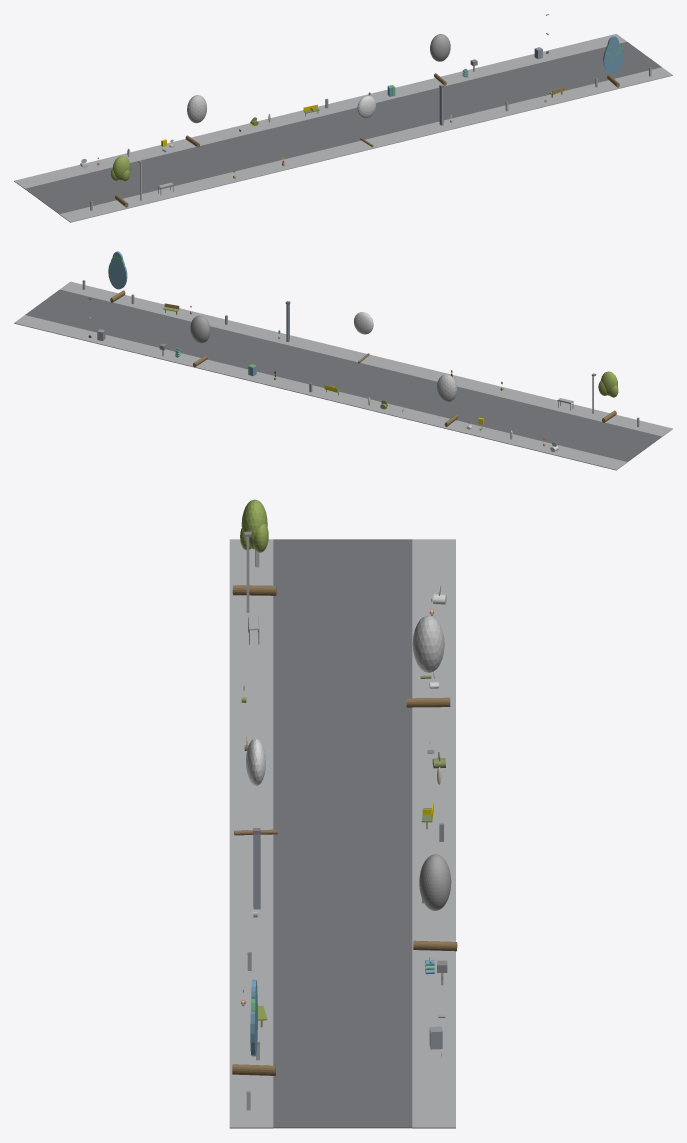
3 renders of one model, top to bottom at view 1: azimuth 30°, elevation 25°; view 2: azimuth 150°, elevation 25°; view 3: azimuth 270°, elevation 25°, orthographic. The views are drawn at different scales.
Visible parts, largest first — view 1: road_slab, sidewalk_left, sidewalk_right, inst_0016, inst_0013, inst_0015, inst_0012, inst_0014; view 2: road_slab, sidewalk_right, sidewalk_left, inst_0016, inst_0013, inst_0015, inst_0012, inst_0014; view 3: road_slab, sidewalk_left, sidewalk_right, inst_0013, inst_0015, inst_0012, inst_0016, inst_0014.
Boxes of the visible parts, left/top/right/bottom form: road_slab: left=25, top=42, right=661, bottom=214; sidewalk_left: left=59, top=67, right=672, bottom=222; sidewalk_right: left=14, top=34, right=626, bottom=188; inst_0016: left=603, top=36, right=623, bottom=87; inst_0013: left=185, top=95, right=206, bottom=147; inst_0015: left=430, top=34, right=450, bottom=85; inst_0012: left=111, top=156, right=130, bottom=207; inst_0014: left=357, top=96, right=375, bottom=147; road_slab: left=25, top=289, right=661, bottom=461; sidewalk_right: left=14, top=315, right=627, bottom=470; sidewalk_left: left=60, top=281, right=672, bottom=436; inst_0016: left=108, top=251, right=127, bottom=302; inst_0013: left=436, top=374, right=457, bottom=426; inst_0015: left=190, top=315, right=210, bottom=367; inst_0012: left=598, top=371, right=618, bottom=422; inst_0014: left=354, top=312, right=373, bottom=363; road_slab: left=273, top=539, right=412, bottom=1128; sidewalk_left: left=229, top=539, right=273, bottom=1128; sidewalk_right: left=412, top=539, right=455, bottom=1128; inst_0013: left=406, top=615, right=450, bottom=707; inst_0015: left=413, top=854, right=457, bottom=951; inst_0012: left=232, top=499, right=276, bottom=595; inst_0016: left=232, top=979, right=275, bottom=1075; inst_0014: left=234, top=738, right=277, bottom=835.
Size of the model in its own units: 80 by 6.08 by 13.08.
